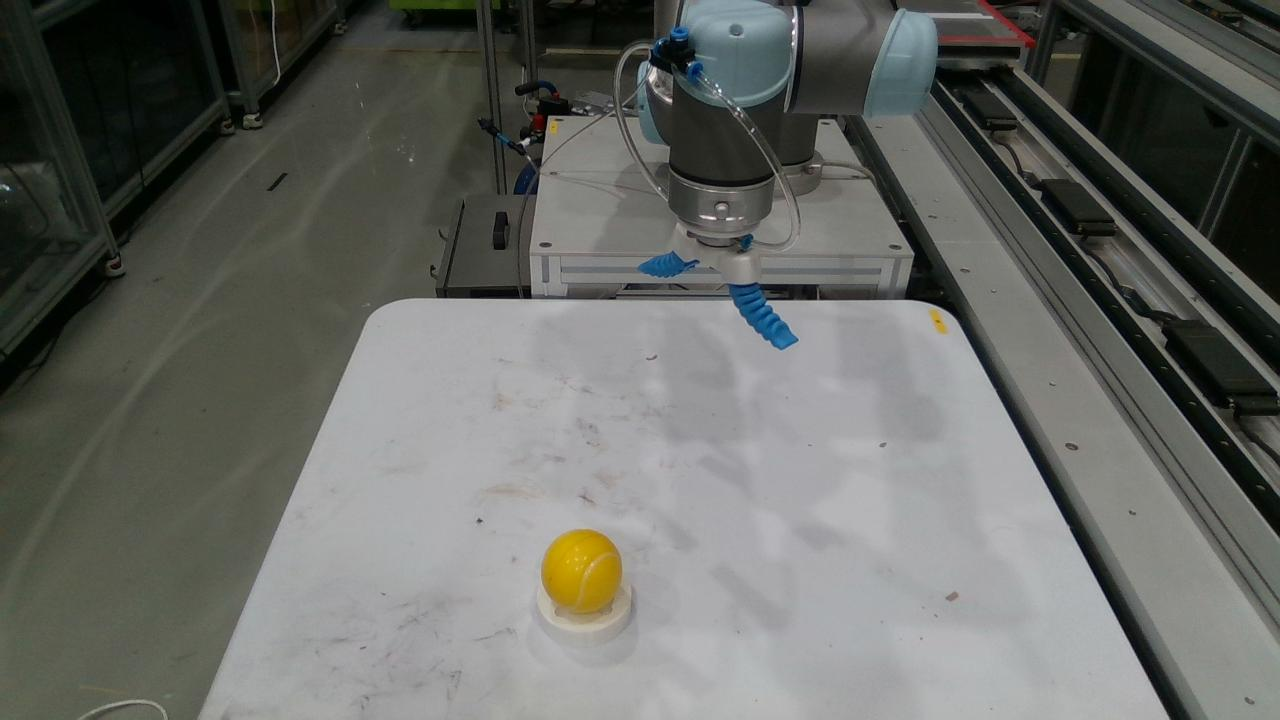UR5: (636, 0, 938, 283)
gripper_left: (637, 252, 699, 278)
gripper_right: (728, 283, 797, 349)
target: (540, 529, 622, 615), (537, 582, 631, 645)
